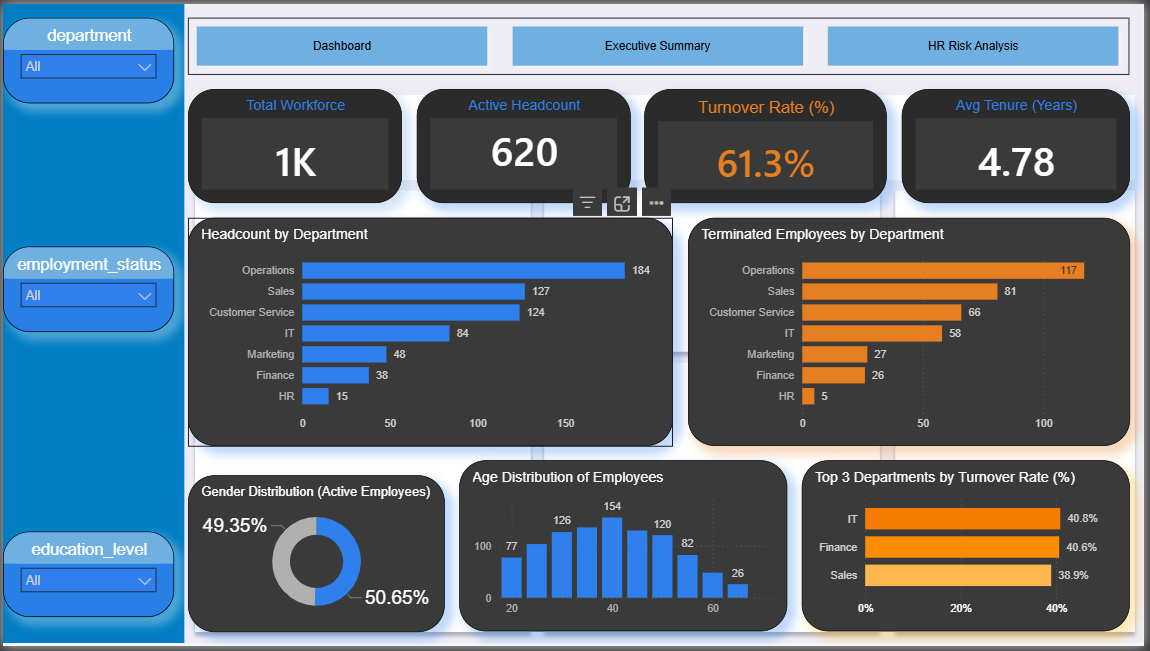

What the dashboard file says about the page in this screenshot:
{"tool":"powerbi","page":{"name":"Dashboard","canvas":[1280,720],"ordinal":0},"visuals":[{"type":"cardVisual","title":"Active Headcount","fields":{"Data":["hr_final_clean.Total Headcount"]},"box":[464,96,240,128],"z":0},{"type":"cardVisual","title":"Total Workforce","fields":{"Data":["hr_final_clean.Total Employees"]},"box":[208,96,240,128],"z":1000},{"type":"cardVisual","title":"Turnover Rate (%)","fields":{"Data":["hr_final_clean.Turnover Rate"]},"box":[720,96,272,128],"z":2000},{"type":"cardVisual","title":"Avg Tenure (Years)","fields":{"Data":["hr_final_clean.Average Tenure"]},"box":[1008,96,256,128],"z":3000},{"type":"slicer","title":"department","fields":{"Values":["hr_final_clean.department"]},"box":[0,16,192,96],"z":4000},{"type":"slicer","title":"education_level","fields":{"Values":["hr_final_clean.education_level"]},"box":[0,592,192,96],"z":5000},{"type":"slicer","title":"employment_status","fields":{"Values":["hr_final_clean.employment_status"]},"box":[0,272,192,96],"z":6000},{"type":"barChart","title":"Headcount by Department","fields":{"Category":["hr_final_clean.department"],"Y":["hr_final_clean.Total Headcount"]},"box":[208,240,544,256],"z":7000},{"type":"barChart","title":"Terminated Employees by Department","fields":{"Category":["hr_final_clean.department"],"Y":["hr_final_clean.Total Terminated"]},"box":[768,240,496,256],"z":8000},{"type":"columnChart","title":"Age Distribution of Employees","fields":{"Category":["hr_final_clean.age (bins)"],"Y":["CountNonNull(hr_final_clean.employee_id)"]},"box":[512,512,368,192],"z":9000},{"type":"barChart","title":"Top 3 Departments by Turnover Rate (%)","fields":{"Category":["hr_final_clean.department"],"Y":["hr_final_clean.Turnover Rate by Department"]},"box":[896,512,368,192],"z":10000},{"type":"donutChart","title":"Gender Distribution (Active Employees)","fields":{"Category":["hr_final_clean.gender"],"Y":["hr_final_clean.Total Headcount"]},"box":[208,528,288,176],"z":11000},{"type":"pageNavigator","box":[208,16,1056,64],"z":12000}]}

Visuals, with their boxes in screenshot pixels (x1, y1, x2, y2), scaled from the page's 1280x720 canvas onto the 1150x651 screenshot:
"Active Headcount" cardVisual: 417:87:632:203
"Total Workforce" cardVisual: 187:87:402:203
"Turnover Rate (%)" cardVisual: 647:87:891:203
"Avg Tenure (Years)" cardVisual: 906:87:1136:203
"department" slicer: 0:14:172:101
"education_level" slicer: 0:535:172:622
"employment_status" slicer: 0:246:172:333
"Headcount by Department" barChart: 187:217:676:448
"Terminated Employees by Department" barChart: 690:217:1136:448
"Age Distribution of Employees" columnChart: 460:463:791:637
"Top 3 Departments by Turnover Rate (%)" barChart: 805:463:1136:637
"Gender Distribution (Active Employees)" donutChart: 187:477:446:637
pageNavigator: 187:14:1136:72
